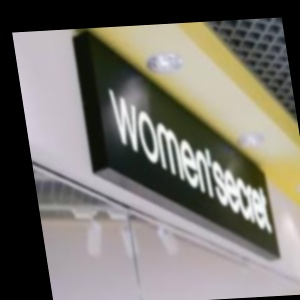women_secret: (225, 176, 300, 235)
